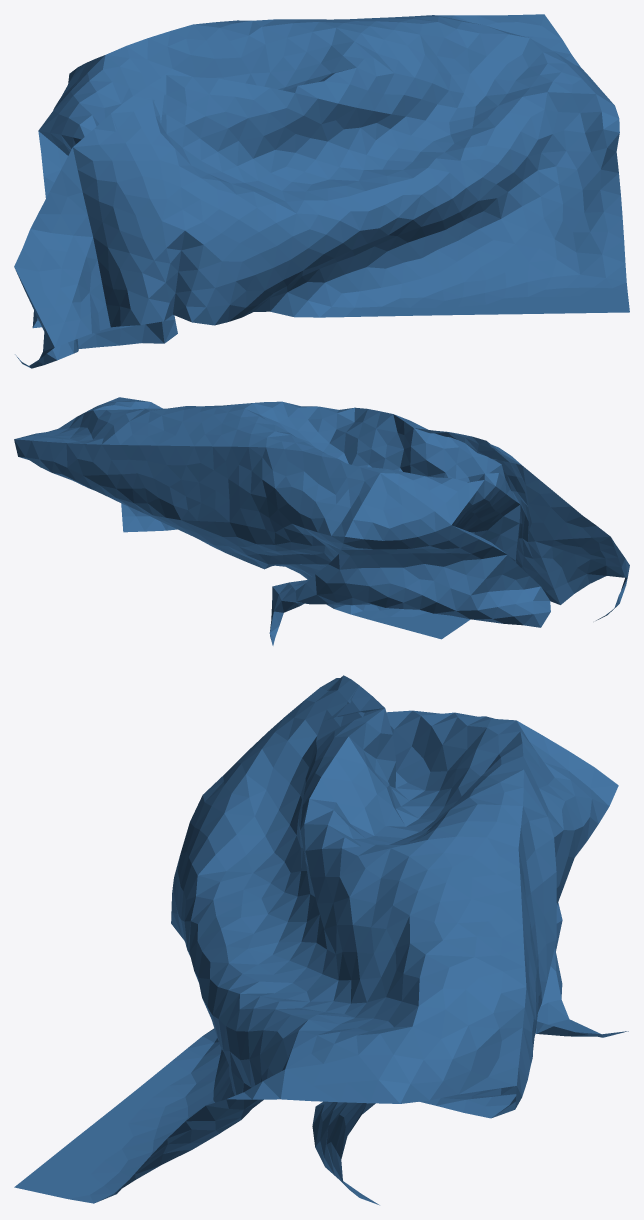
The model's file is task-07.glb.
The picture shows the model from 3 angles, top to bottom: view 1: azimuth 30°, elevation 25°; view 2: azimuth 150°, elevation 25°; view 3: azimuth 270°, elevation 25°; orthographic projection. The views are drawn at different scales.
Parts seen in each view (by area): view 1: cloth__0; view 2: cloth__0; view 3: cloth__0.
Boxes of the visible parts, x1,y1,x2,y2 form: cloth__0: [14, 14, 629, 368]; cloth__0: [14, 397, 629, 645]; cloth__0: [14, 675, 628, 1205].
Bounding box in the file's own units: 0.4704 × 0.1527 × 0.3095.
